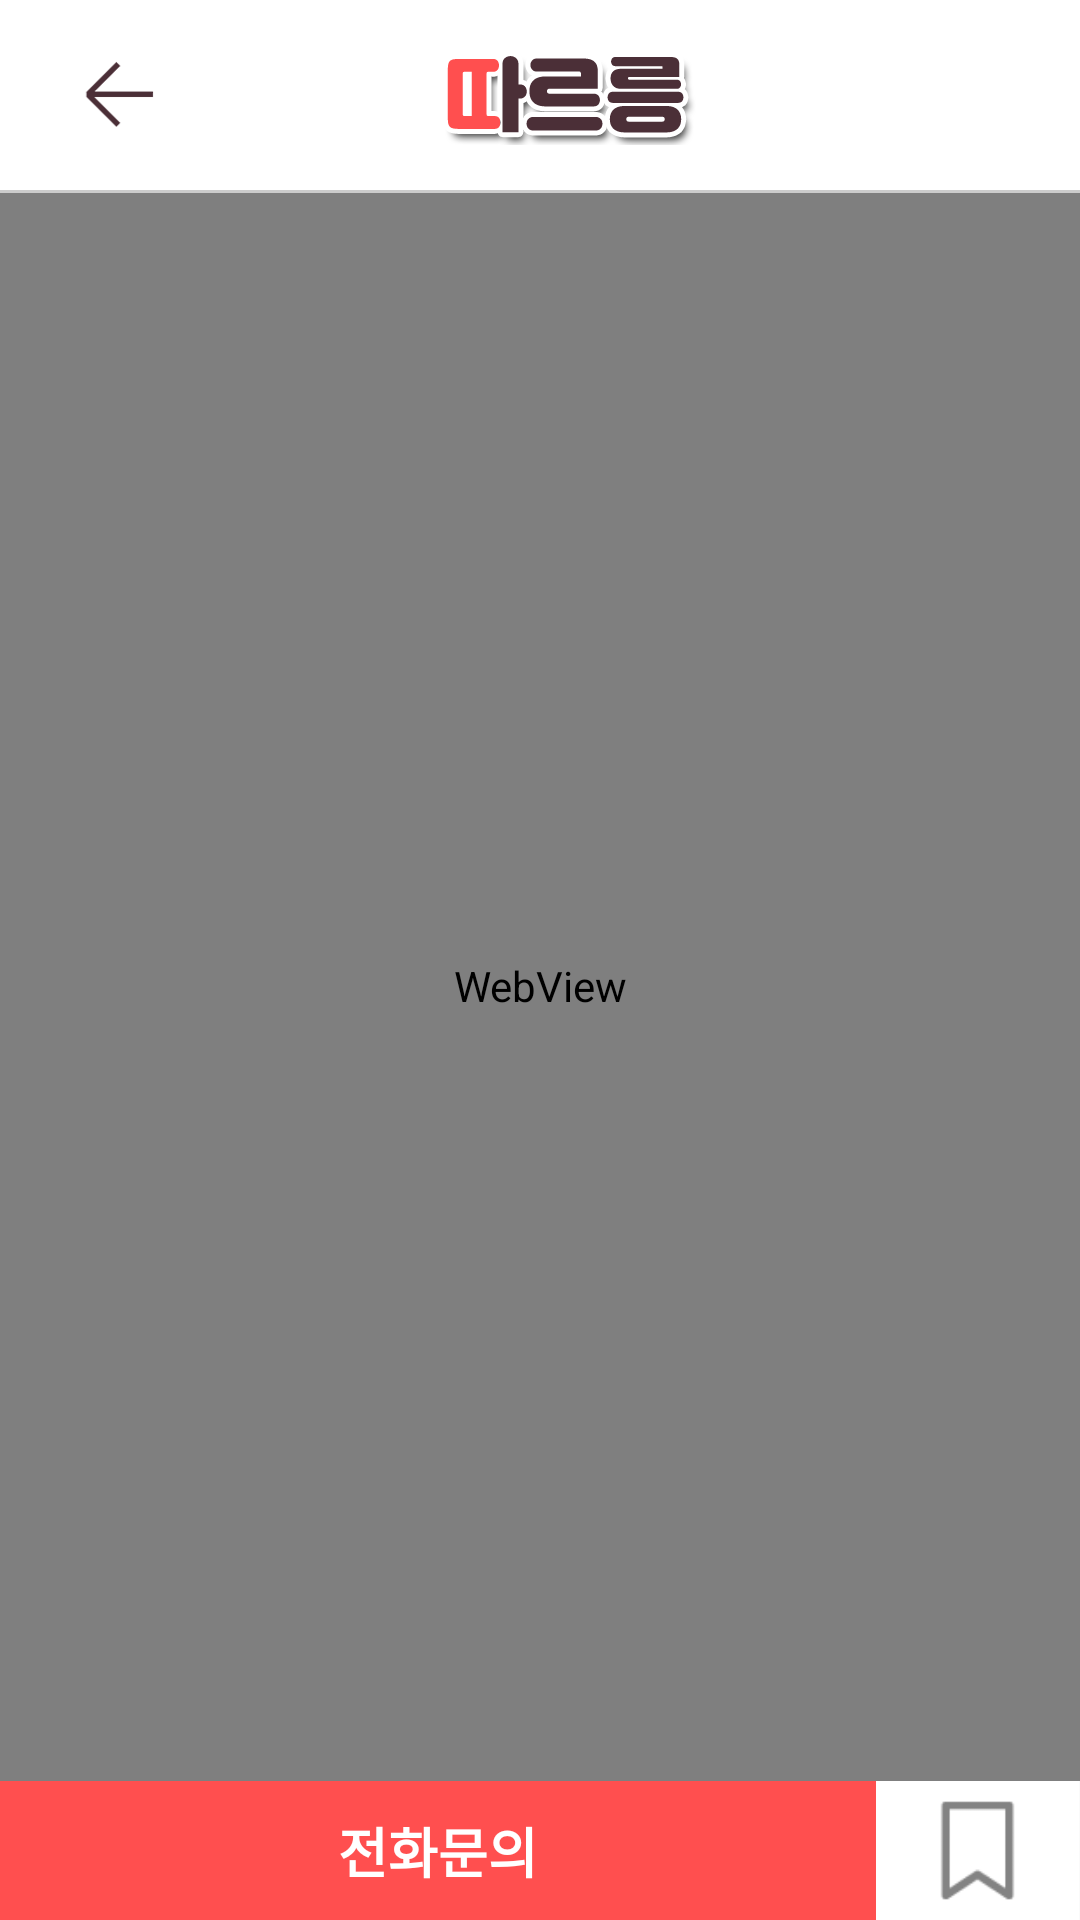

Icons on this 1080*1920 Android screen, each with its box as (x1, y1, x2, y2):
hd back: (86, 62, 153, 127)
